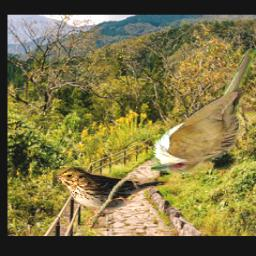Cuckoo: (150, 48, 256, 173)
Sparrow: (51, 166, 168, 229)
